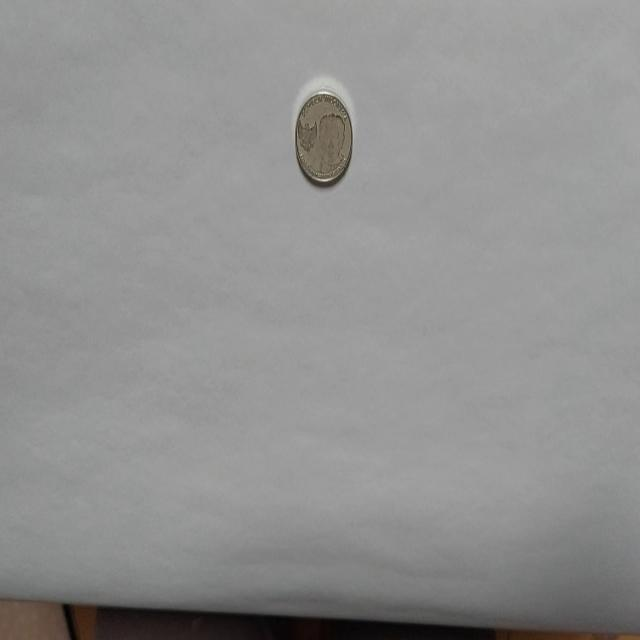seratus rupiah: (294, 88, 352, 187)
